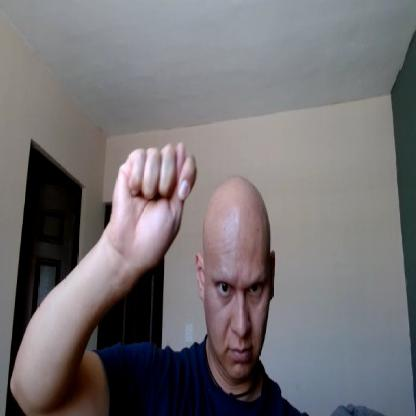T: (110, 141, 197, 272)
